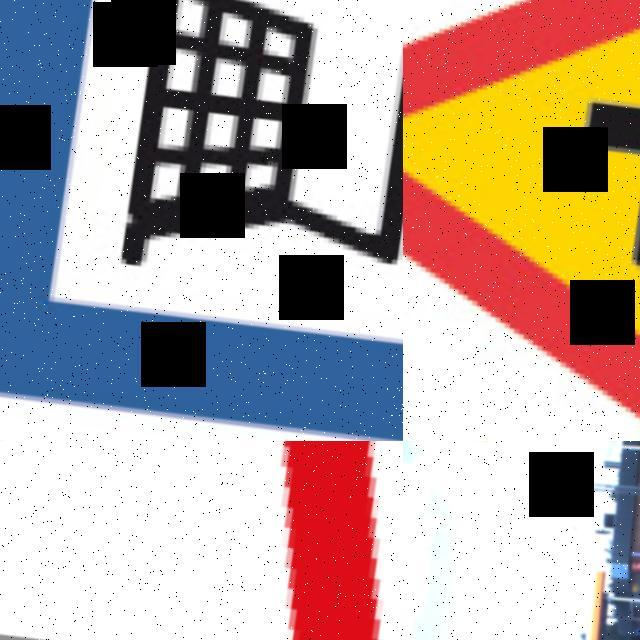166: (403, 0, 640, 441)
54: (0, 0, 403, 441)
Level crossing countdown marker: (0, 441, 403, 640)
